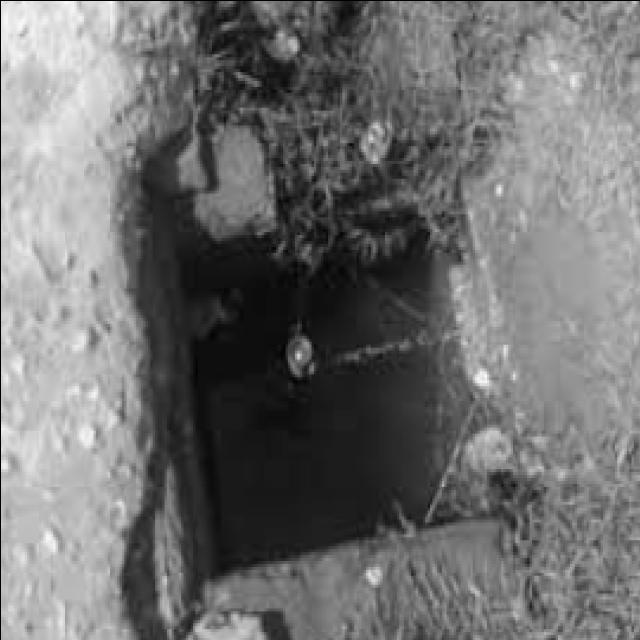Breeding Place: (156, 211, 504, 580)
